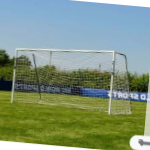goals: (9, 45, 135, 116)
